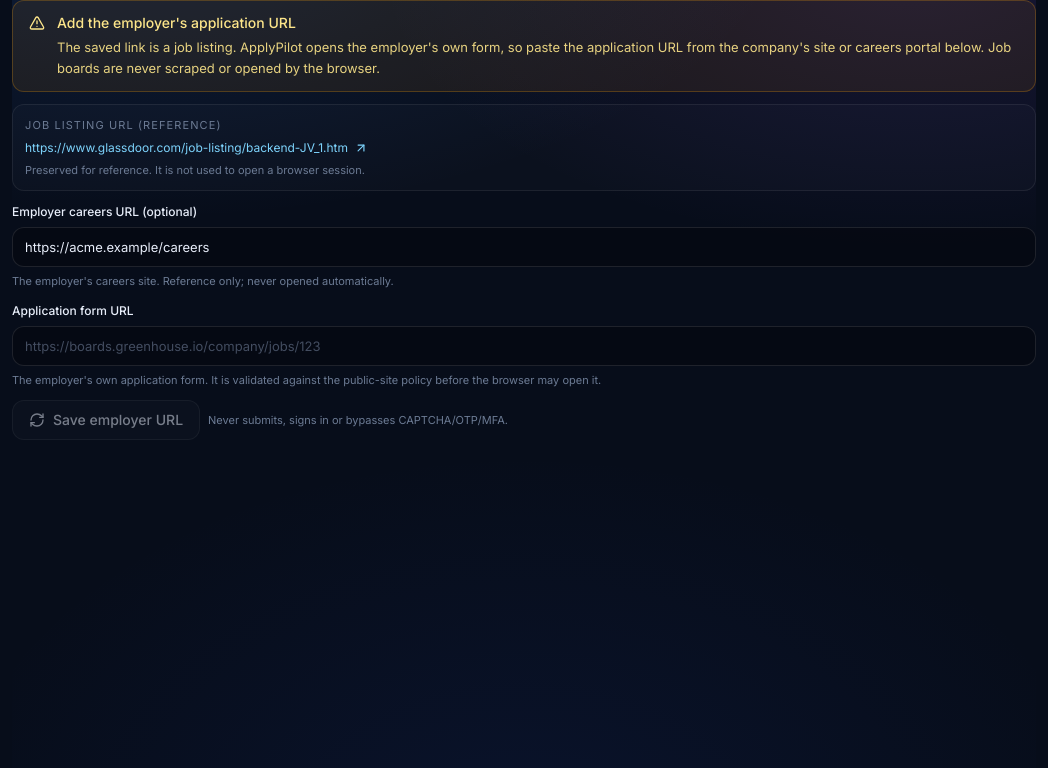
it: EmployerApplicationUrlForm › shows the backend's specific job-board rejection
Expected: the text "Add the employer's application URL" is shown, [57,14,296,31]
In the field named "Employer application URL": (524, 346) [12,326,1036,366], type "https://www.glassdoor.com/job-listing/backend-JV_1.htm"
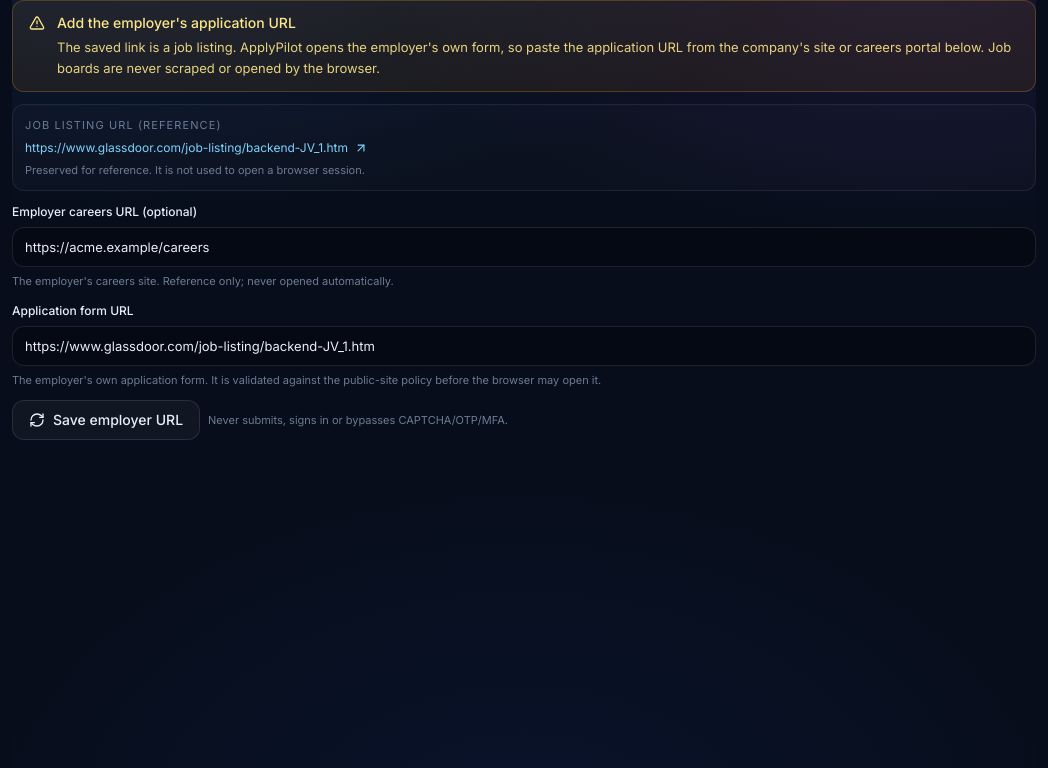
Click the button "Save employer URL": (106, 420) [12,400,200,440]
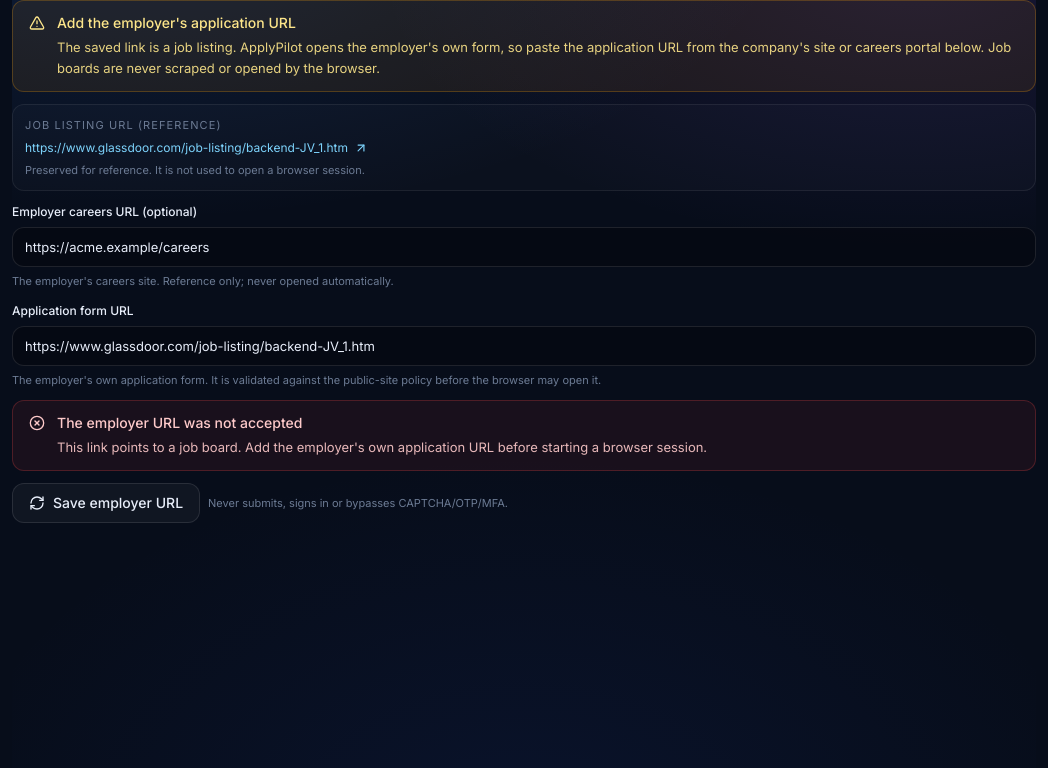
Now the text "This link points to a job board" is shown, box [57,439,707,455]
